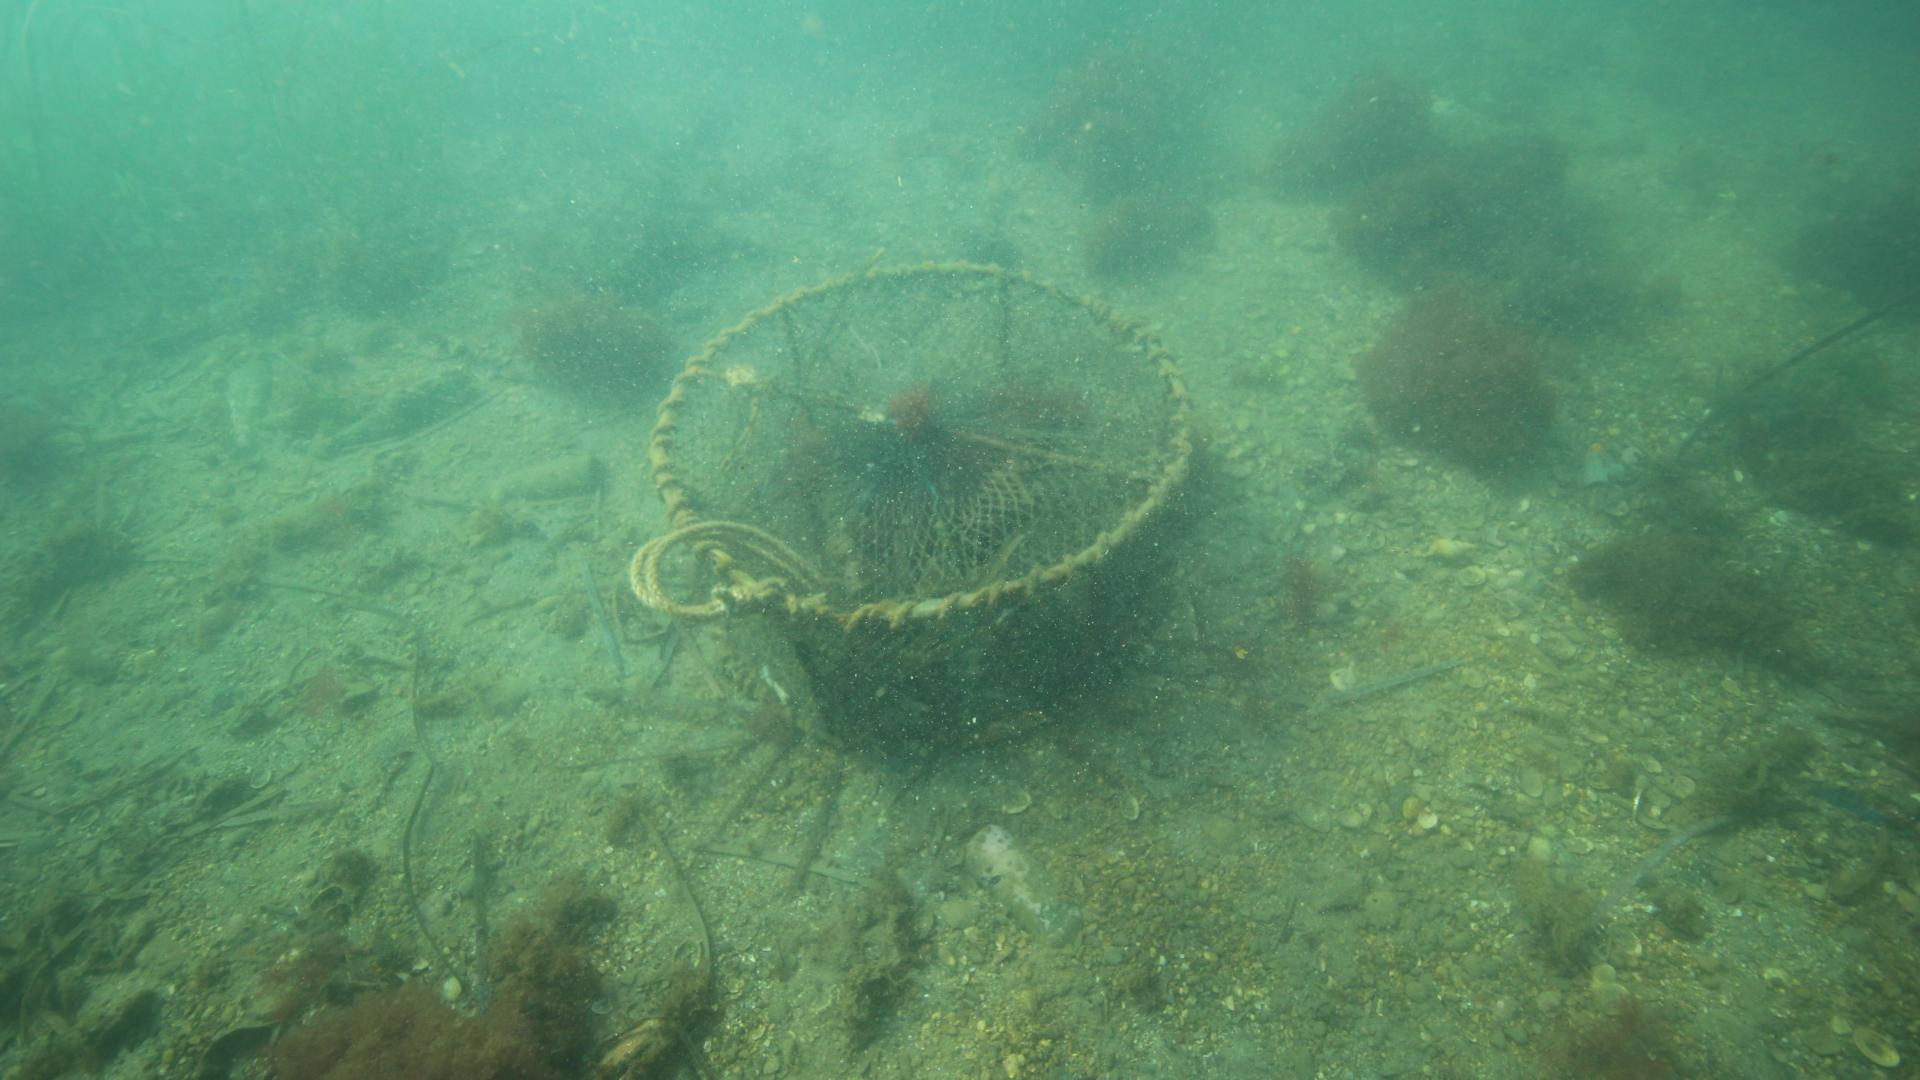bundle of ropes: (626, 520, 811, 618)
circular fish trap: (645, 257, 1191, 753)
